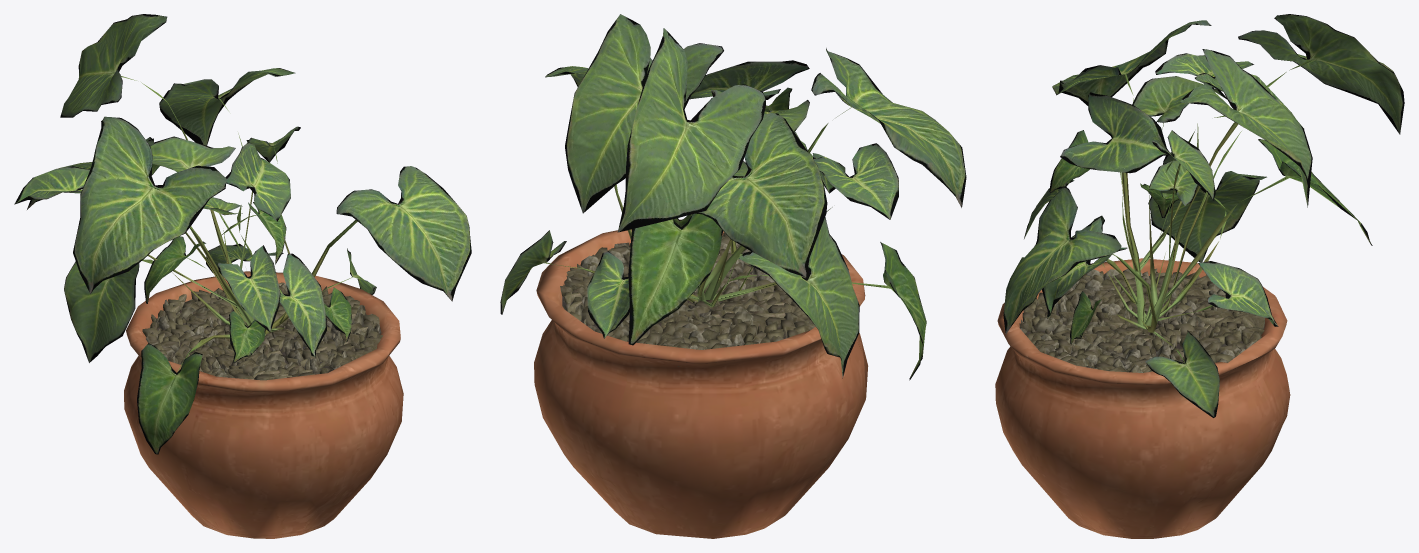
File: potted_plant_02_lod.lo.glb
3 renders of one model, left to right at view 1: azimuth 30°, elevation 25°; view 2: azimuth 150°, elevation 25°; view 3: azimuth 270°, elevation 25°, orthographic. The views are drawn at different scales.
Visible parts, largest first — view 1: potted_plant_02_leaves, potted_plant_02_pot, potted_plant_02_dirt; view 2: potted_plant_02_leaves, potted_plant_02_pot, potted_plant_02_dirt; view 3: potted_plant_02_leaves, potted_plant_02_pot, potted_plant_02_dirt.
Part boxes in pixels (x1,y1,x2,y2): potted_plant_02_leaves: (14,14,471,454); potted_plant_02_pot: (124,271,403,538); potted_plant_02_dirt: (142,282,382,380); potted_plant_02_leaves: (500,14,966,380); potted_plant_02_pot: (534,219,868,538); potted_plant_02_dirt: (560,232,815,366); potted_plant_02_leaves: (1003,14,1404,417); potted_plant_02_pot: (995,258,1290,538); potted_plant_02_dirt: (1019,268,1264,372).
Bounding box in the file's own units: 0.7009 × 0.8397 × 0.6561.
2 materials, 2 textured.
